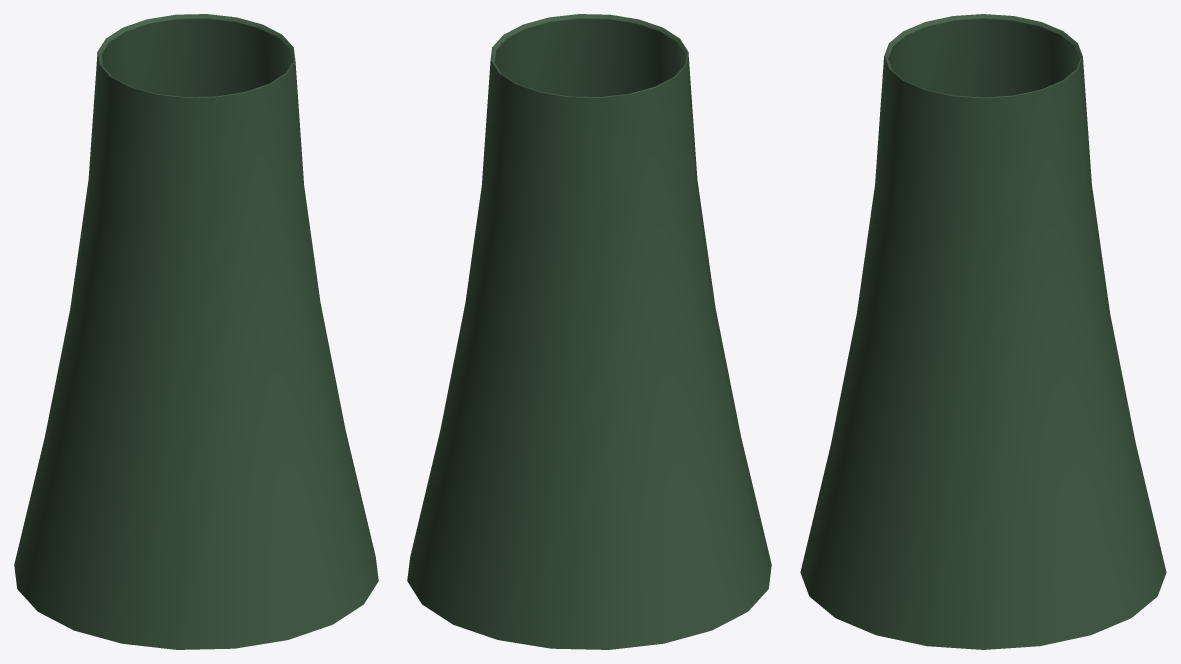
Rendered from Cheminee_Nuke.fbx.
3 views of the same model, side by side, from view 1: azimuth 30°, elevation 25°; view 2: azimuth 150°, elevation 25°; view 3: azimuth 270°, elevation 25° (orthographic).
Parts seen in each view (by area): view 1: Cheminée; view 2: Cheminée; view 3: Cheminée.
Boxes of the visible parts, x1,y1,x2,y2 form: Cheminée: [14, 14, 378, 649]; Cheminée: [407, 14, 771, 649]; Cheminée: [800, 14, 1166, 649].
Bounding box in the file's own units: 15.78 × 24.57 × 15.78.
